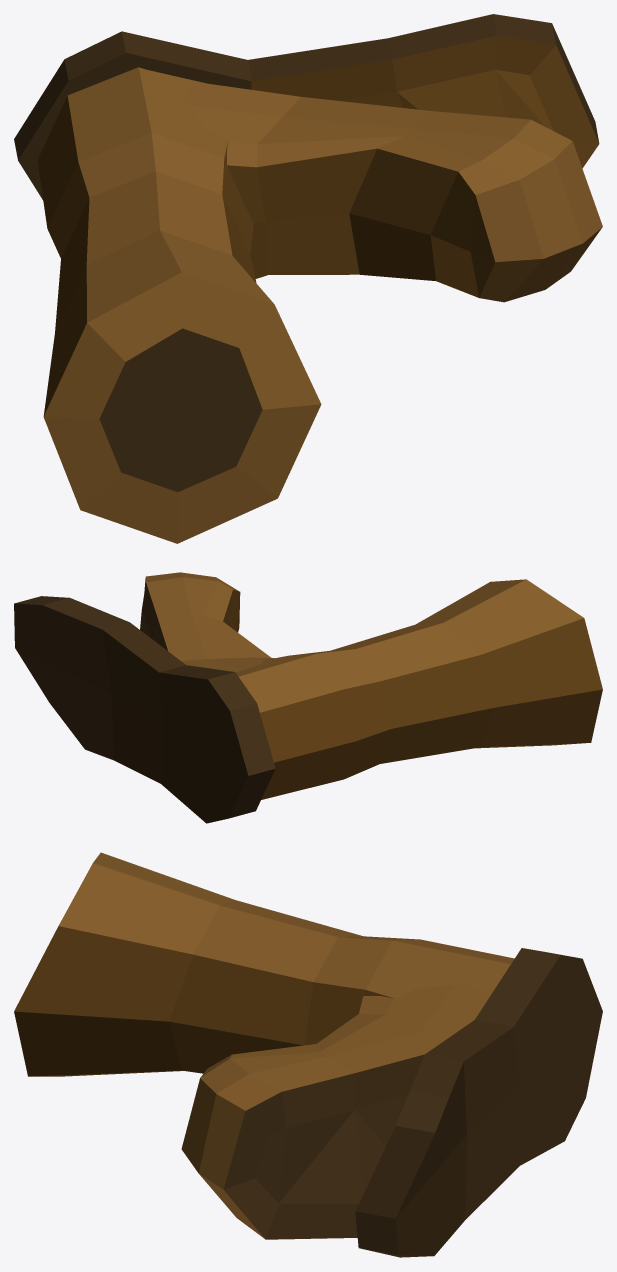
File: Boot.fbx
3 views of the same model, one above another, from view 1: azimuth 30°, elevation 25°; view 2: azimuth 150°, elevation 25°; view 3: azimuth 270°, elevation 25° (orthographic). The views are drawn at different scales.
Parts seen in each view (by area): view 1: Boot; view 2: Boot; view 3: Boot.
Boxes of the visible parts, bbox=[...] form: Boot: bbox=[14, 14, 602, 543]; Boot: bbox=[14, 572, 602, 823]; Boot: bbox=[14, 852, 602, 1257].
Bounding box in the file's own units: 251 × 85.49 × 205.
